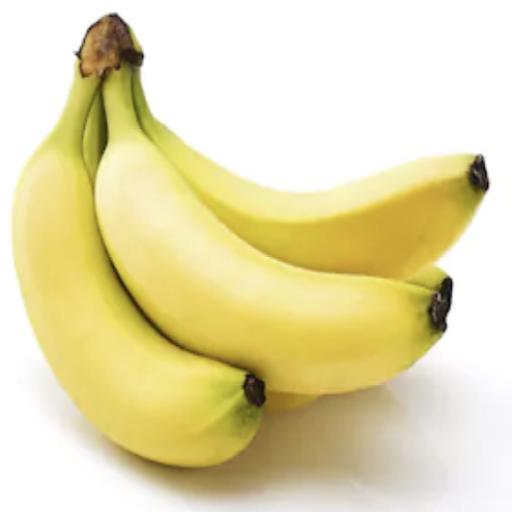banana: (96, 65, 447, 393), (13, 16, 264, 466), (133, 74, 489, 279), (83, 94, 107, 182), (409, 266, 452, 310)
